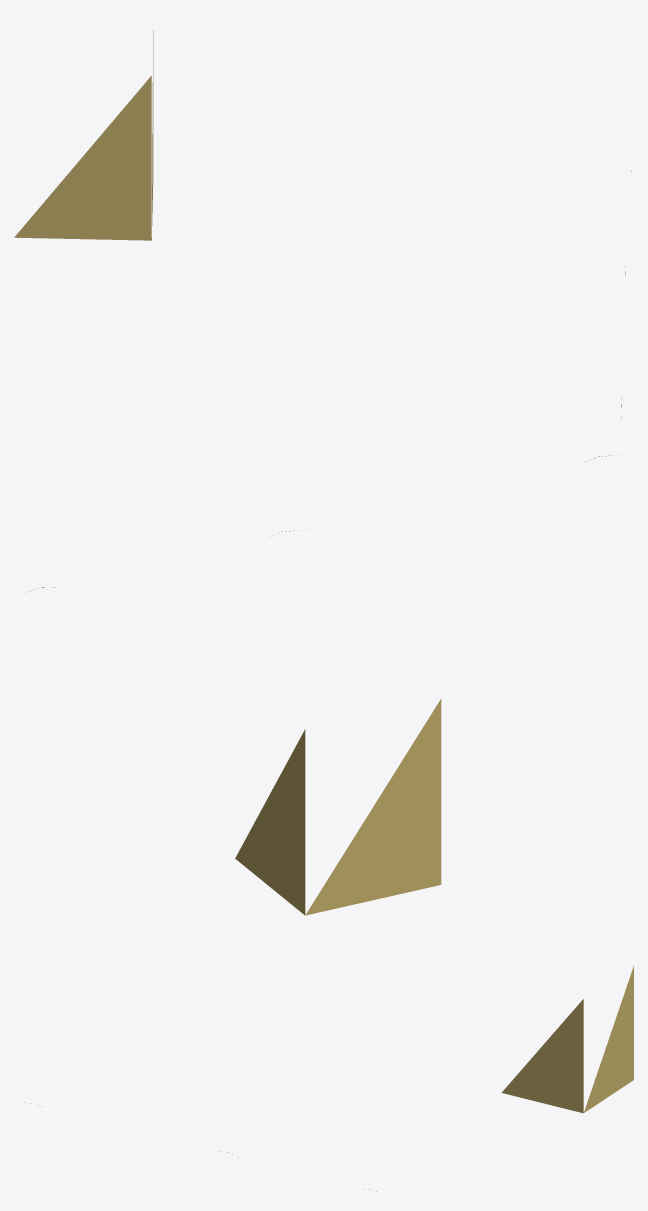
3 renders of one model, top to bottom at view 1: azimuth 30°, elevation 25°; view 2: azimuth 150°, elevation 25°; view 3: azimuth 270°, elevation 25°, orthographic. The views are drawn at different scales.
Bounding box in the file's own units: 261 × 82.5 × 404.
